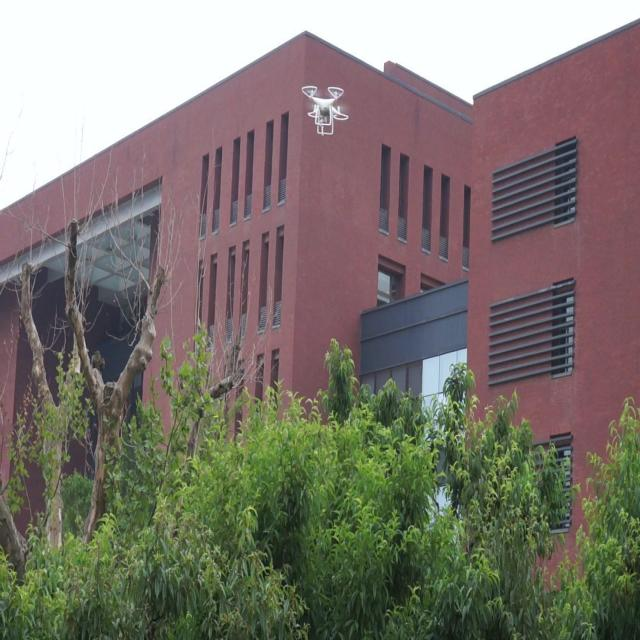UAV: (301, 86, 349, 136)
